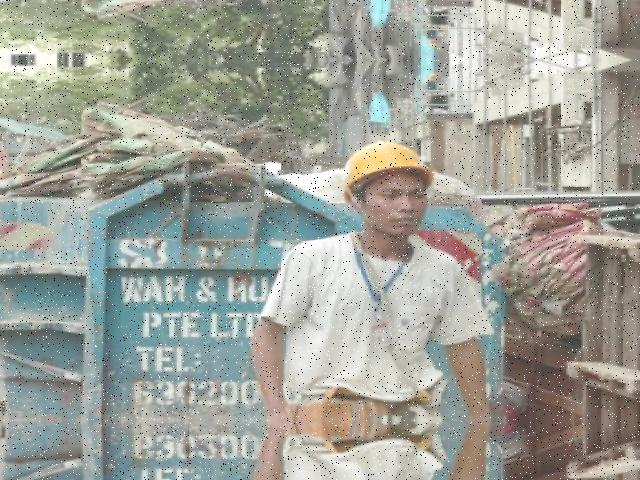Helmet: (335, 135, 435, 207)
